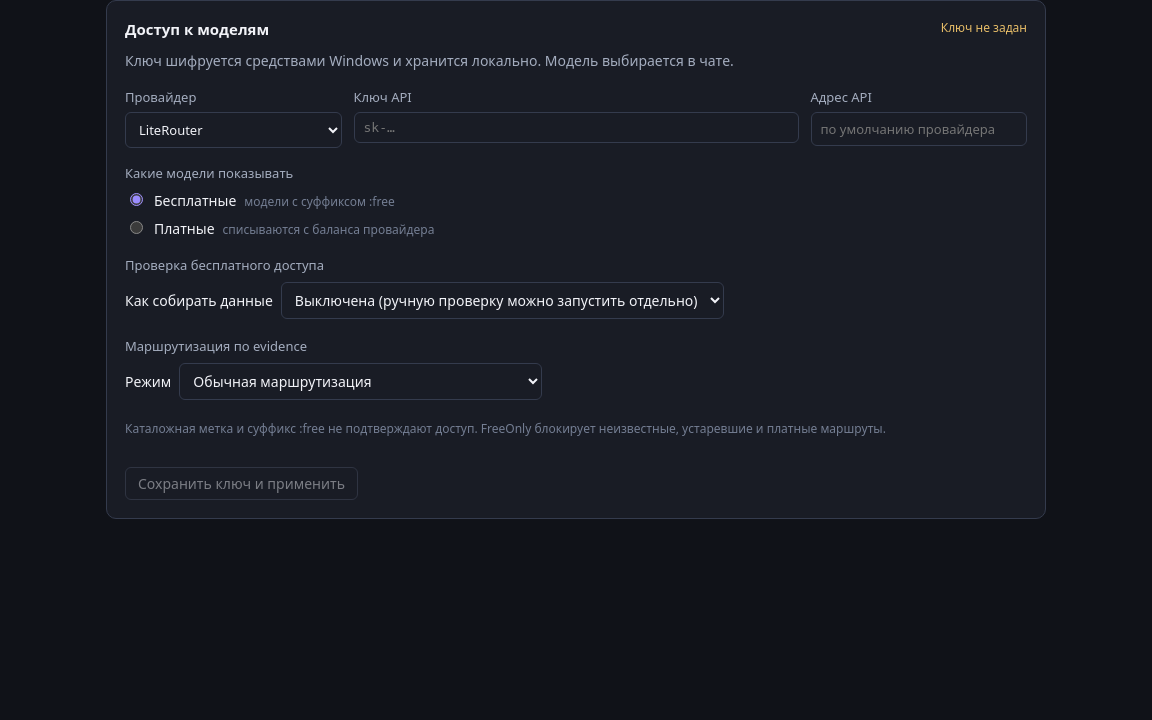
provider form › requires a one-shot warning before requesting an OpenRouter free-access probe
Step 1. Select "OpenAI API (Chat Completions)" in the dropdown labelled "Провайдер" → (233, 130), box [125,112,342,148]
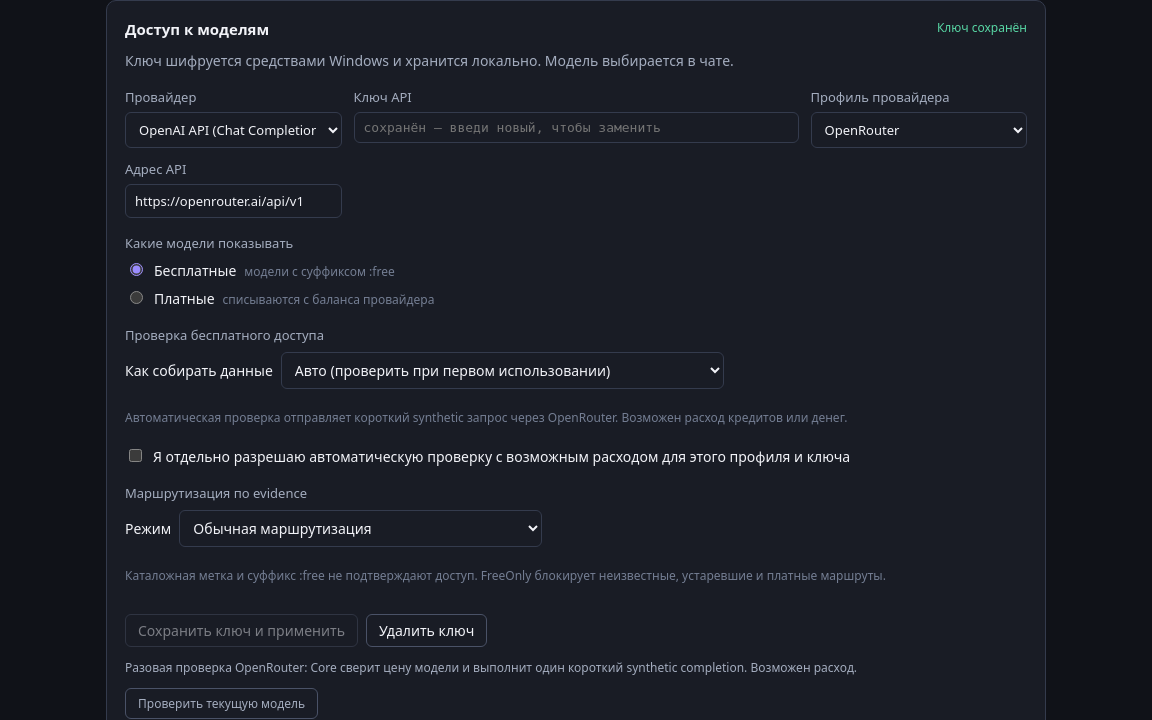
Step 2. Click the button "Проверить текущую модель" → (222, 704), box [125,688,318,719]
(page scrolled)
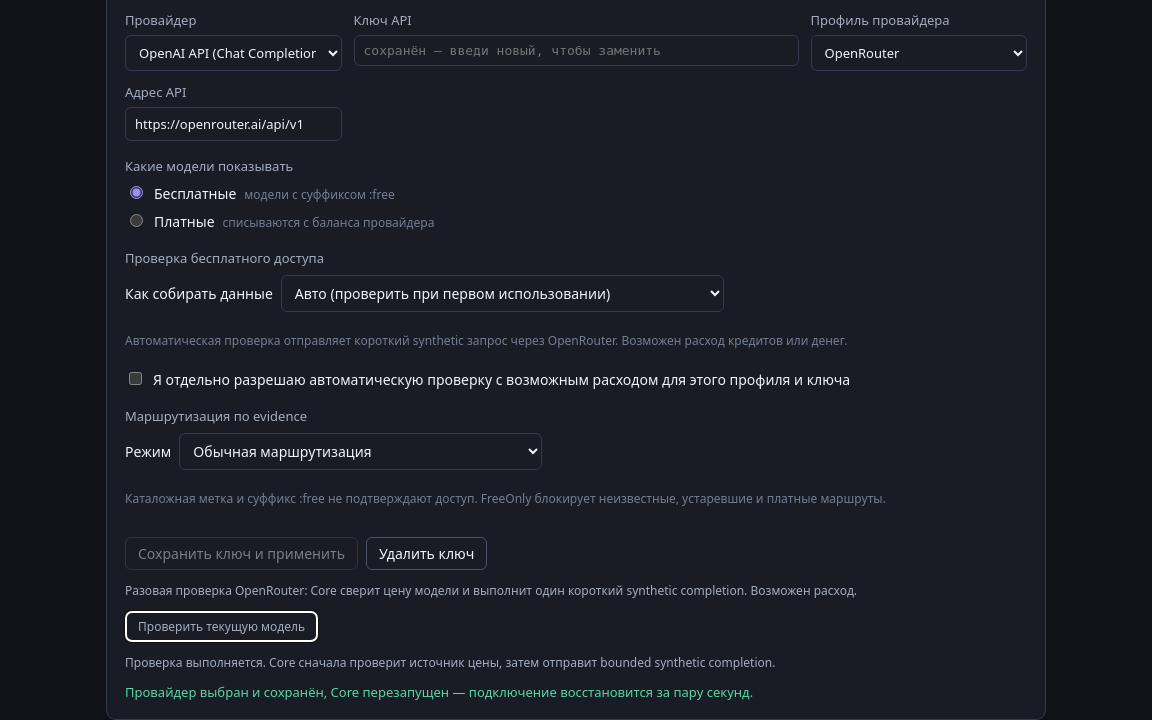
Result: the text "Проверка выполняется" is shown at [125,654,775,671]
